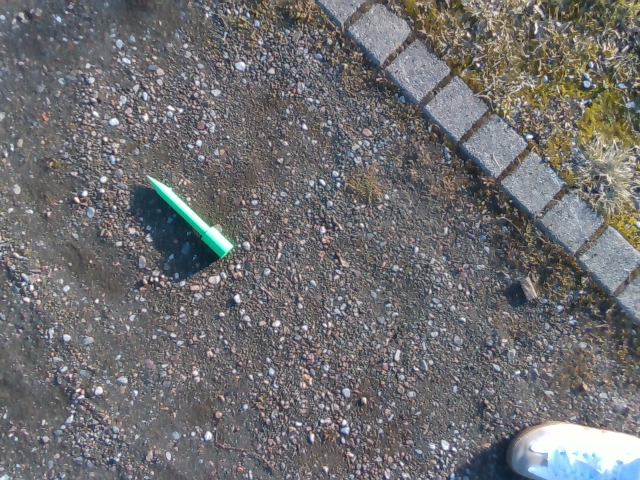Probe: (139, 171, 237, 260)
